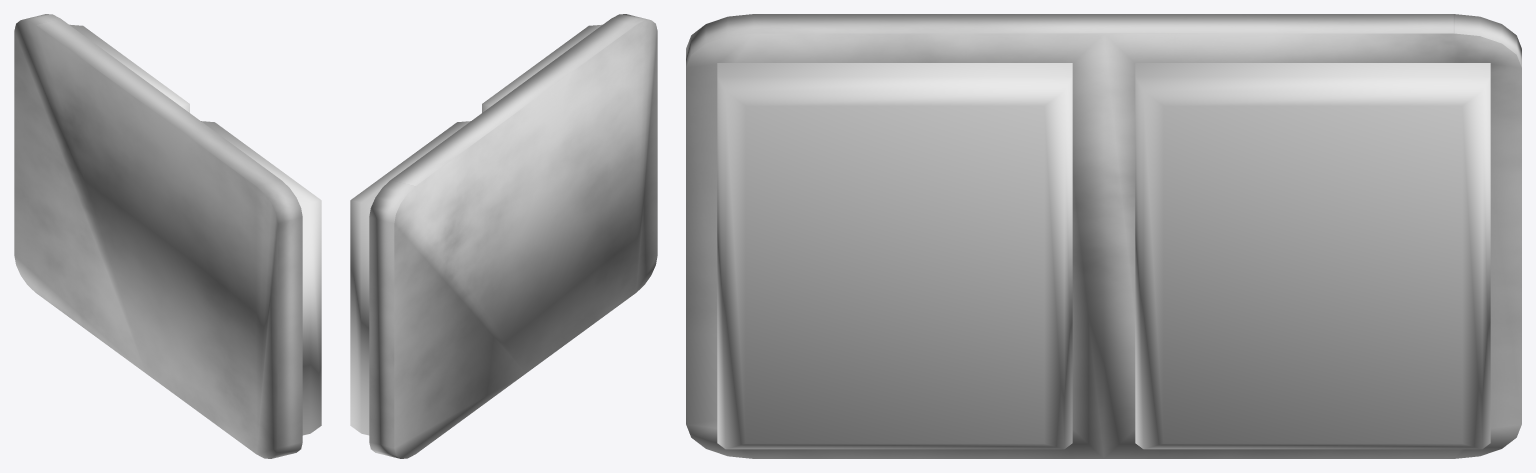
Rendered from TwoButtonSwitch.fbx.
3 renders of one model, left to right at view 1: azimuth 30°, elevation 25°; view 2: azimuth 150°, elevation 25°; view 3: azimuth 270°, elevation 25°, orthographic. The views are drawn at different scales.
Visible parts, largest first — view 1: TwoButtonSwitch; view 2: TwoButtonSwitch; view 3: TwoButtonSwitch.
Part boxes in pixels (<box>): TwoButtonSwitch: <box>14,14,321,458</box>; TwoButtonSwitch: <box>350,14,657,458</box>; TwoButtonSwitch: <box>686,14,1521,458</box>.
Size of the model in its own units: 8.12 by 33.52 by 59.67.
